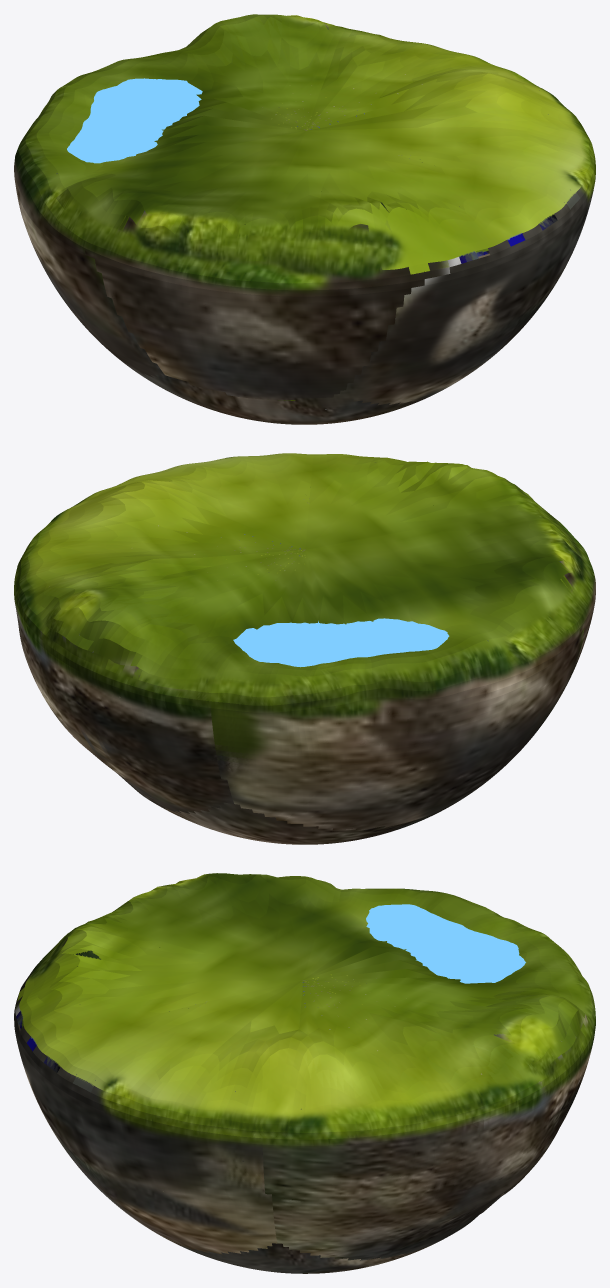
Rendered from Island v2.fbx.
3 views of the same model, one above another, from view 1: azimuth 30°, elevation 25°; view 2: azimuth 150°, elevation 25°; view 3: azimuth 270°, elevation 25° (orthographic).
Visible parts, largest first — view 1: Island, Water; view 2: Island, Water; view 3: Island, Water.
Part boxes in pixels (bbox=[...]): Island: bbox=[14, 14, 595, 424]; Water: bbox=[67, 78, 202, 163]; Island: bbox=[14, 453, 595, 844]; Water: bbox=[233, 618, 449, 667]; Island: bbox=[14, 873, 595, 1273]; Water: bbox=[366, 904, 525, 983].
Bounding box in the file's own units: 194 × 104 × 194.
